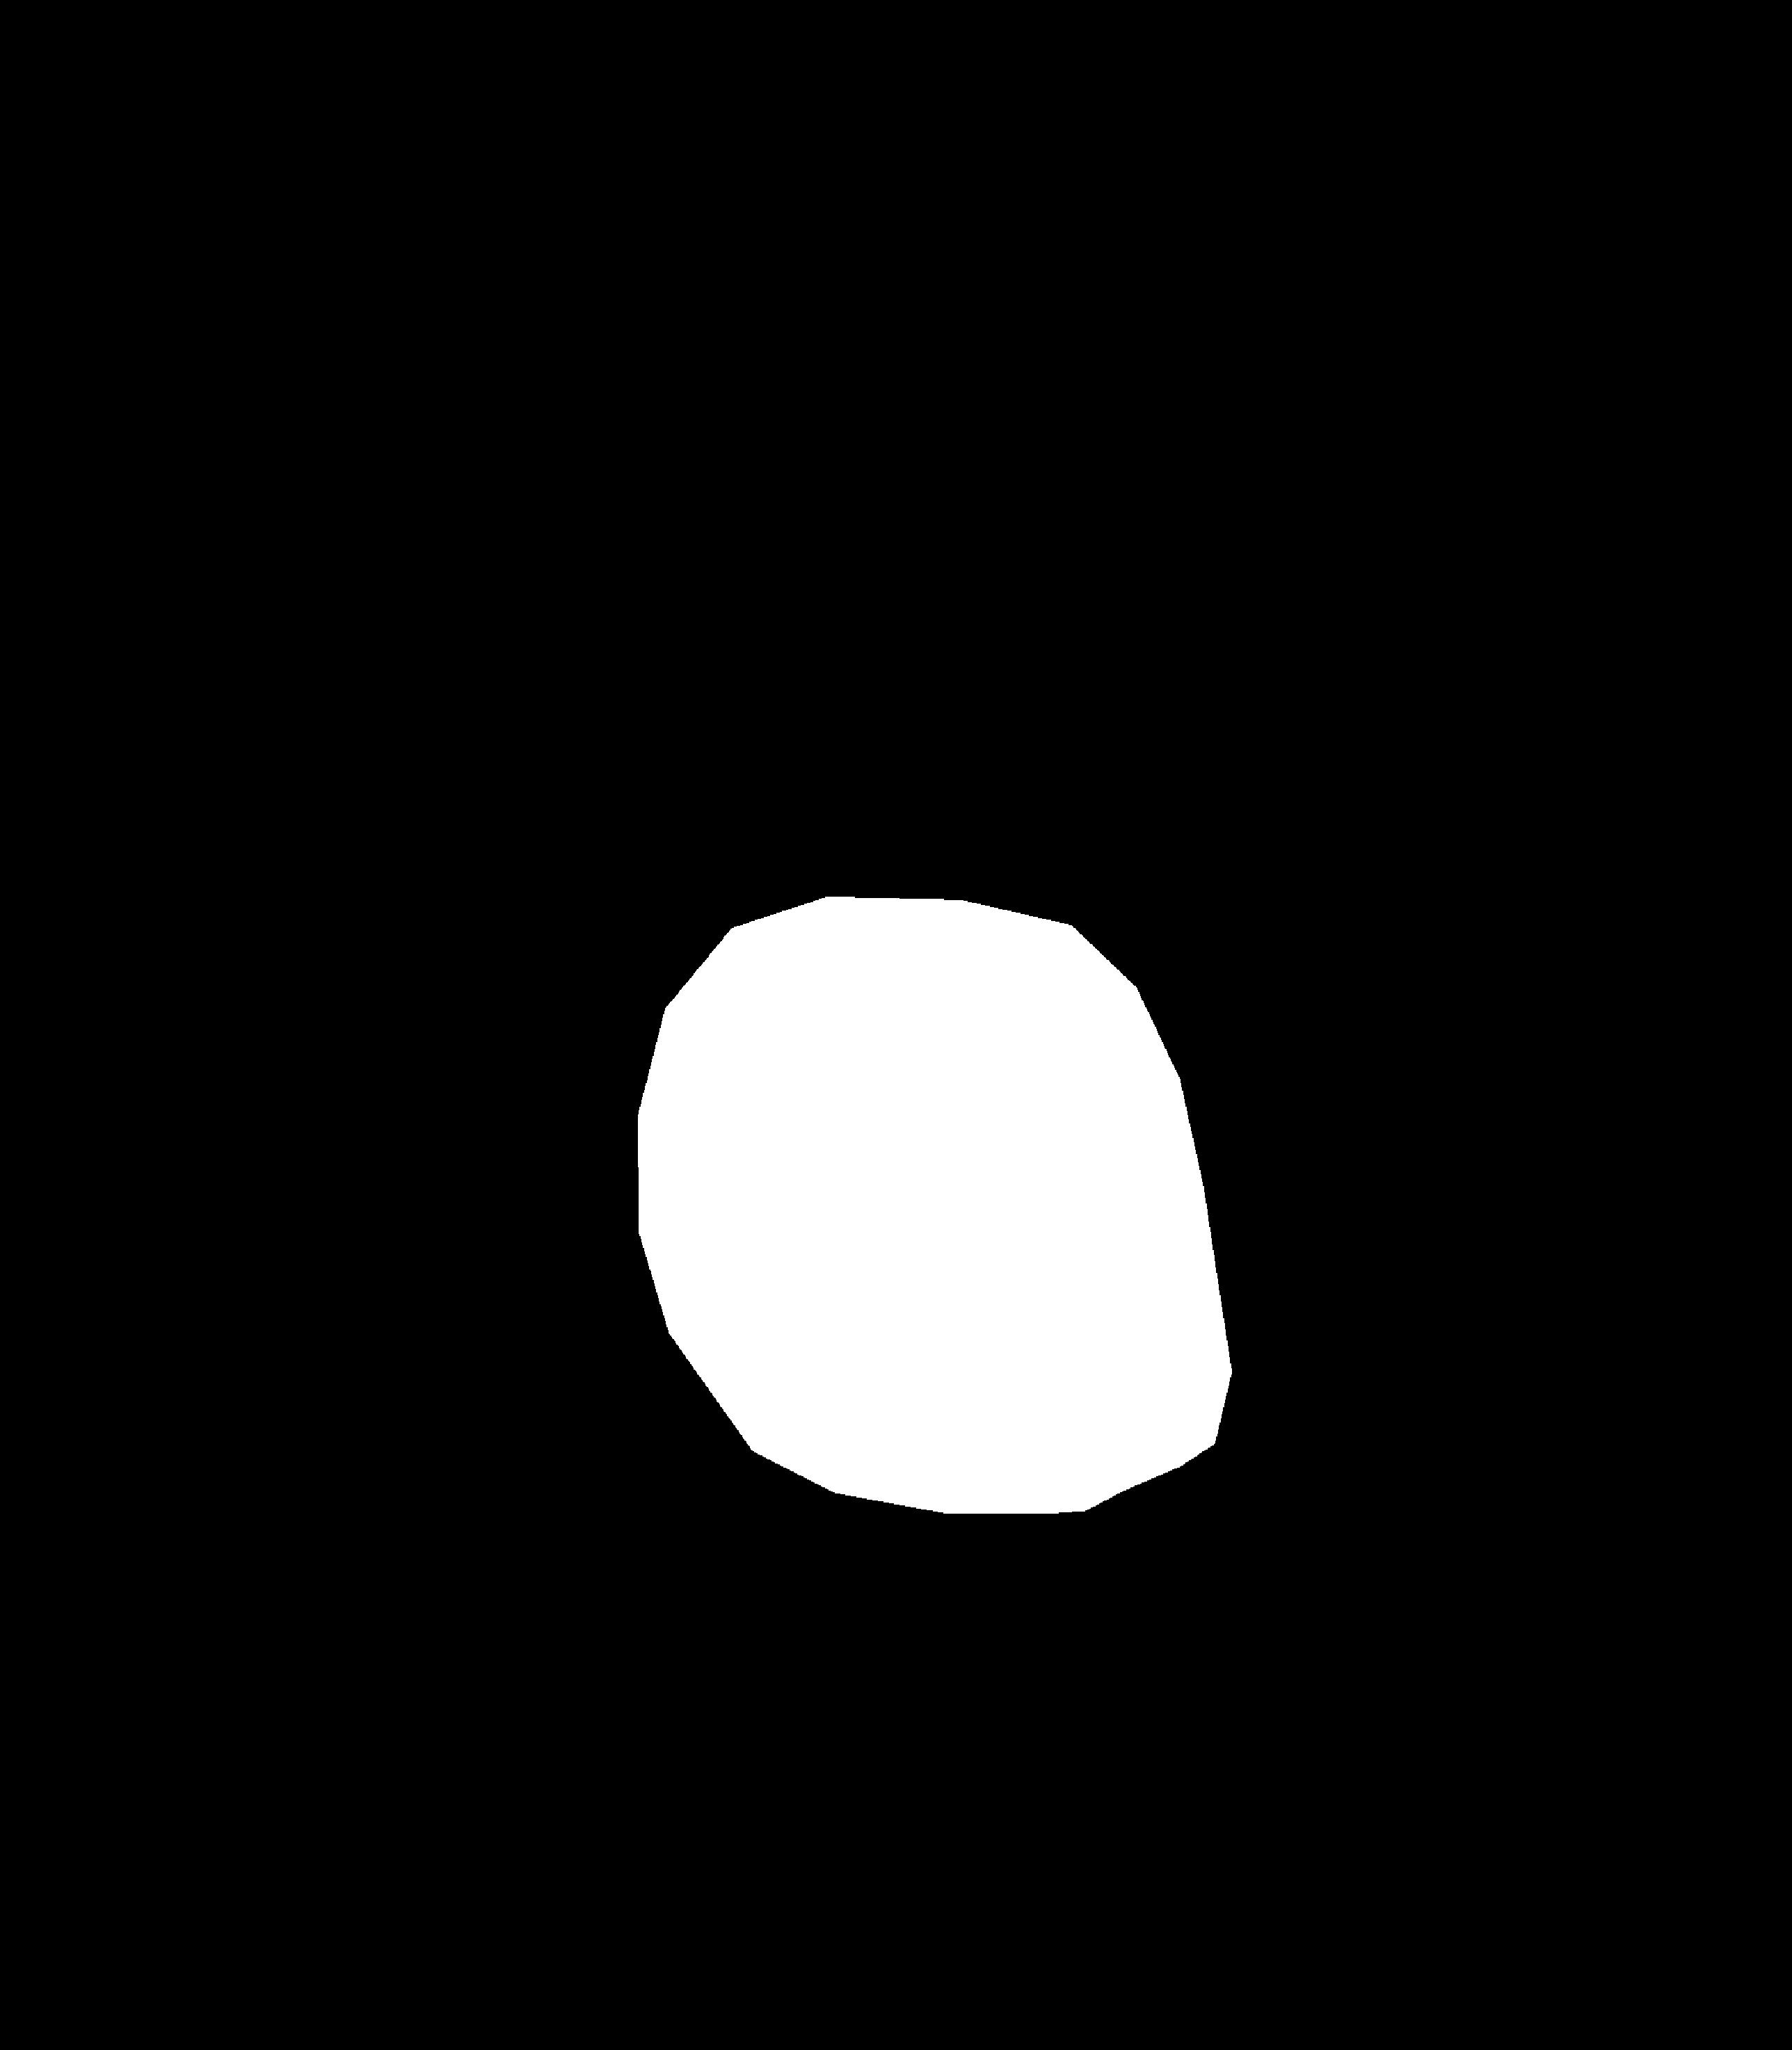heart: (652, 823, 1231, 1499)
left_lung: (214, 256, 811, 1555)
right_lung: (948, 305, 1581, 1614)
